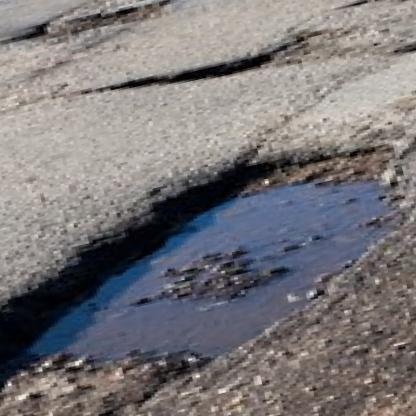pothole: (0, 121, 416, 416), (0, 0, 180, 64), (95, 45, 279, 105)
